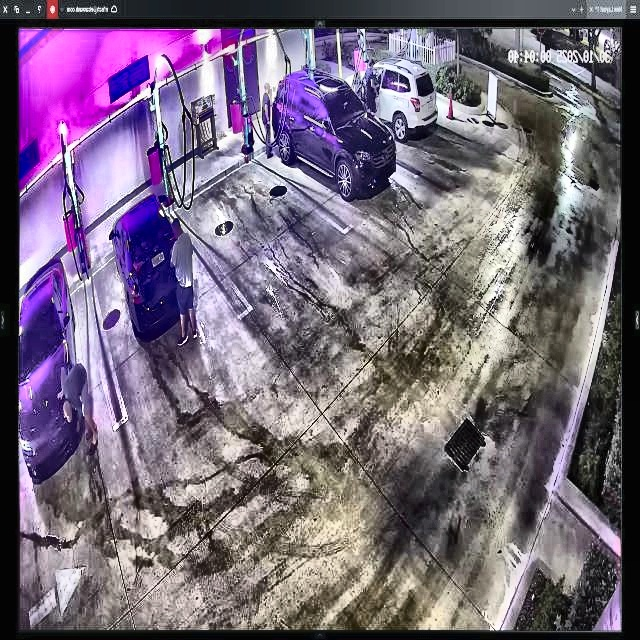Car: (272, 67, 398, 197), (111, 193, 189, 339), (344, 62, 436, 139)
